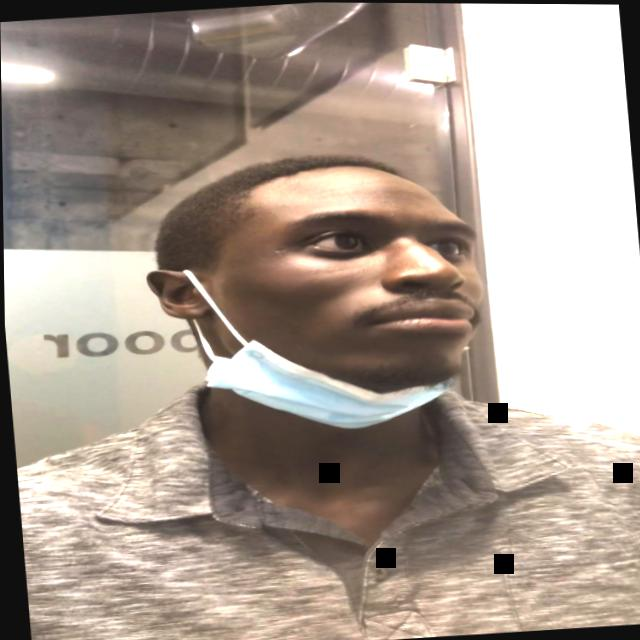NO-Mask: (157, 164, 492, 402)
